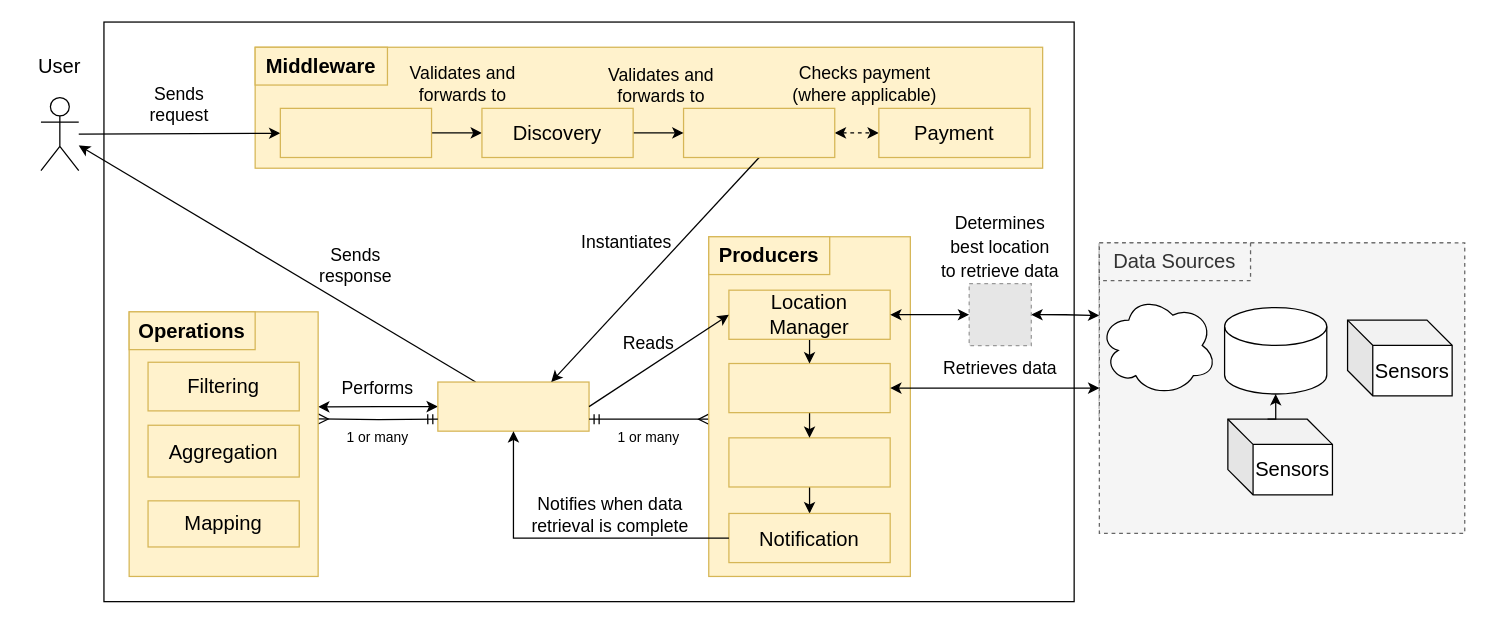
Image size: 1487x624. Some labels were removed from this diagram. Grey dashed boxes stand in for pictures. Here are the shapes that lost their labels. From the top down, the centre of each, then its label:
the point at 355,132: Sanitization
the point at 758,132: Authentication
the point at 1157,345: APIs
the point at 1275,350: Databases
the point at 513,406: Runner
the point at 809,387: Fetching/ Streaming
the point at 809,462: Anonymisation
